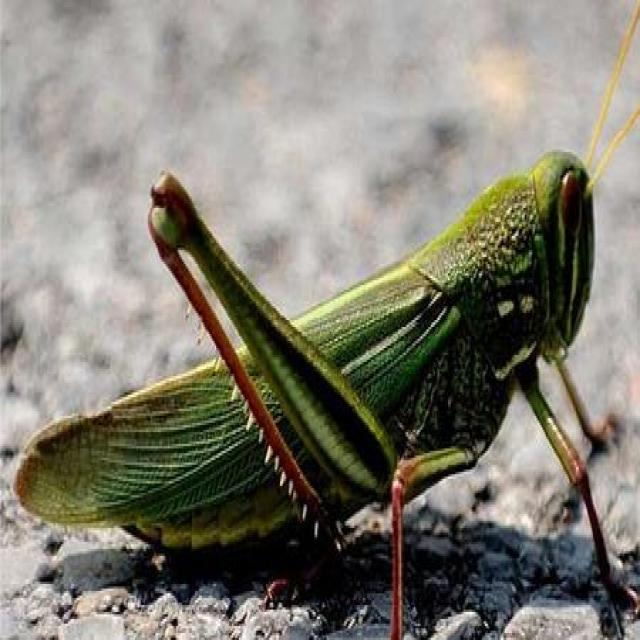ZhaMeng: (11, 145, 622, 566)
